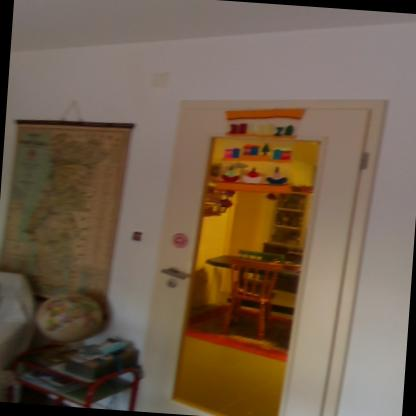closed: (132, 72, 403, 415)
